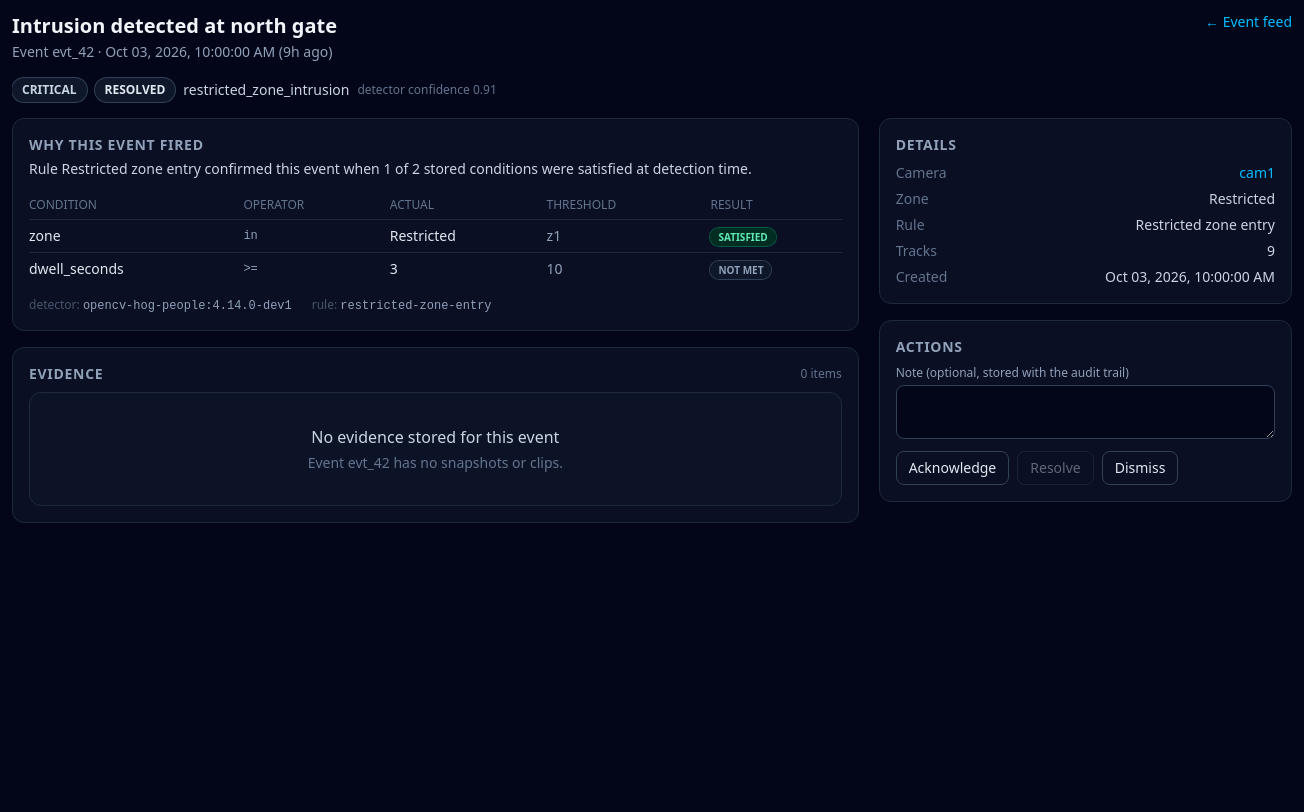
it: invalid transition surfaces backend 409
Expected: the table with test id "conditions-table" is shown, [29,191,842,285]
Click the button with test id "action-acknowledged" at (952, 468), box [896,451,1009,485]
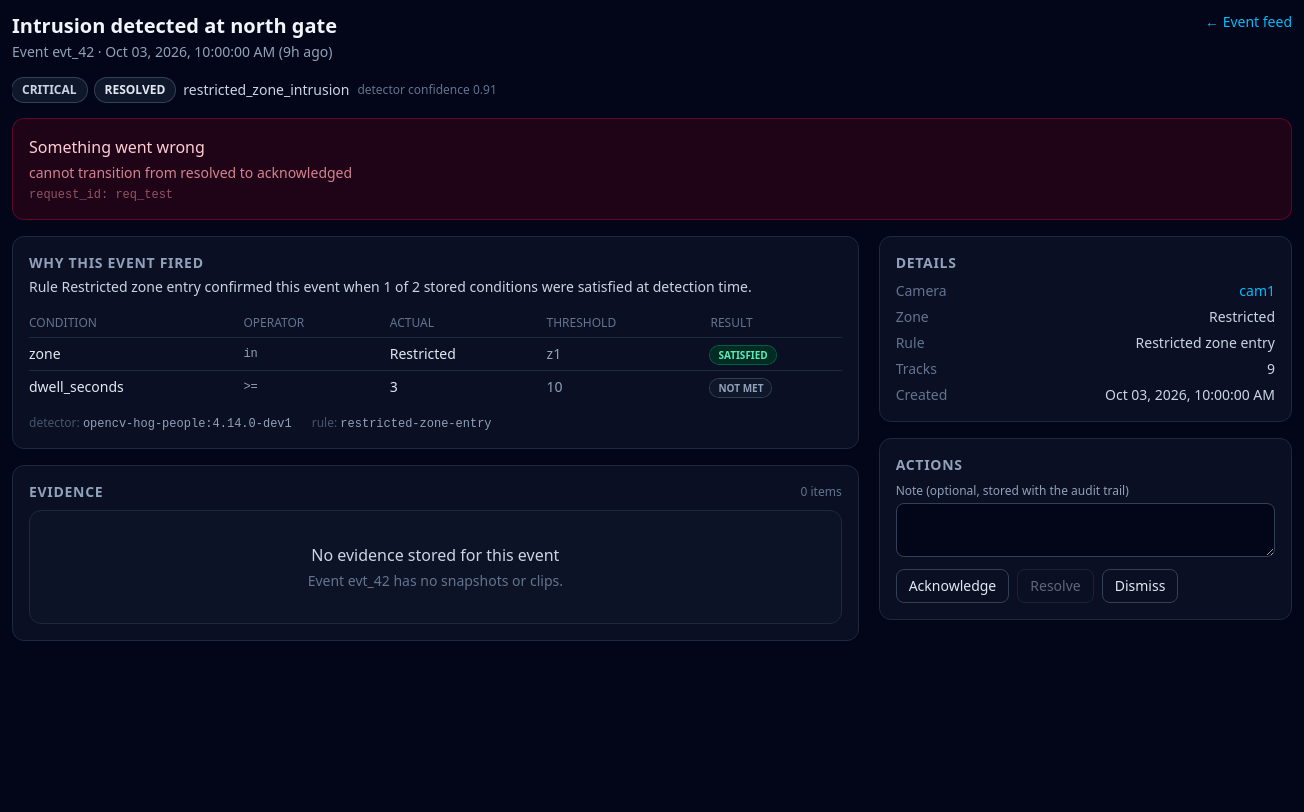
Result: the message with test id "error-panel" shows "cannot transition from resolved to acknowledged" at [29,163,352,182]
